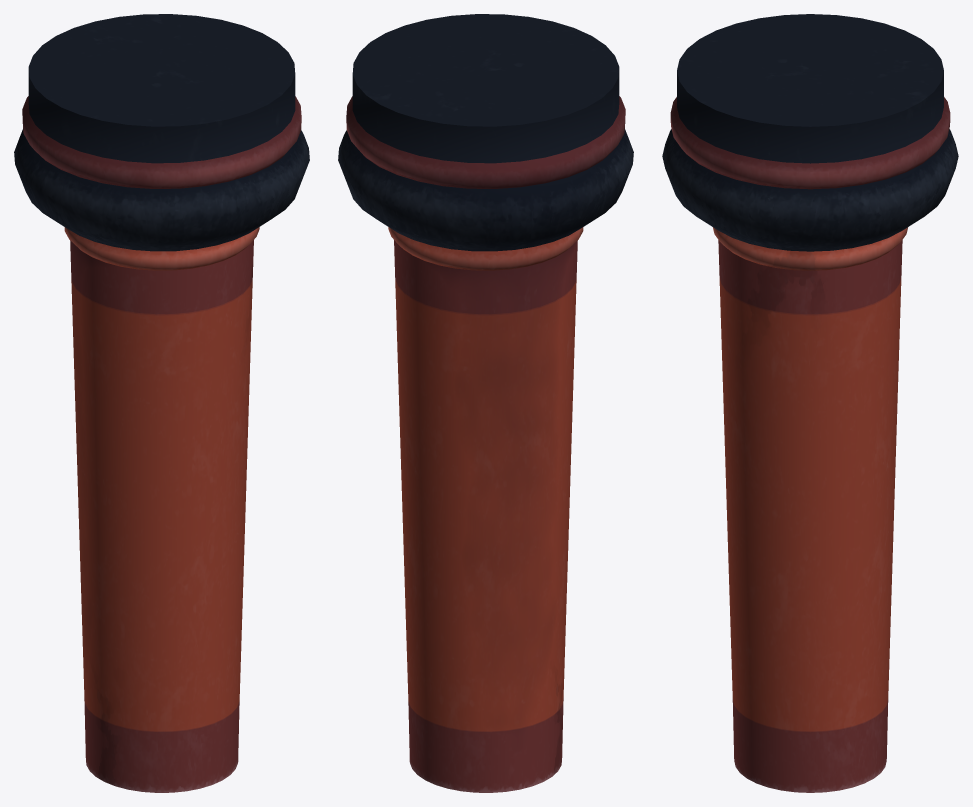
The model's file is Column.fbx.
The picture shows the model from 3 angles, left to right: view 1: azimuth 30°, elevation 25°; view 2: azimuth 150°, elevation 25°; view 3: azimuth 270°, elevation 25°; orthographic projection.
Visible parts, largest first — view 1: ColumnB; view 2: ColumnB; view 3: ColumnB.
Part boxes in pixels (x1,y1,x2,y2): ColumnB: (14,14,309,792); ColumnB: (338,14,633,792); ColumnB: (662,14,958,792).
Size of the model in its own units: 1.56 by 4.01 by 1.56.
